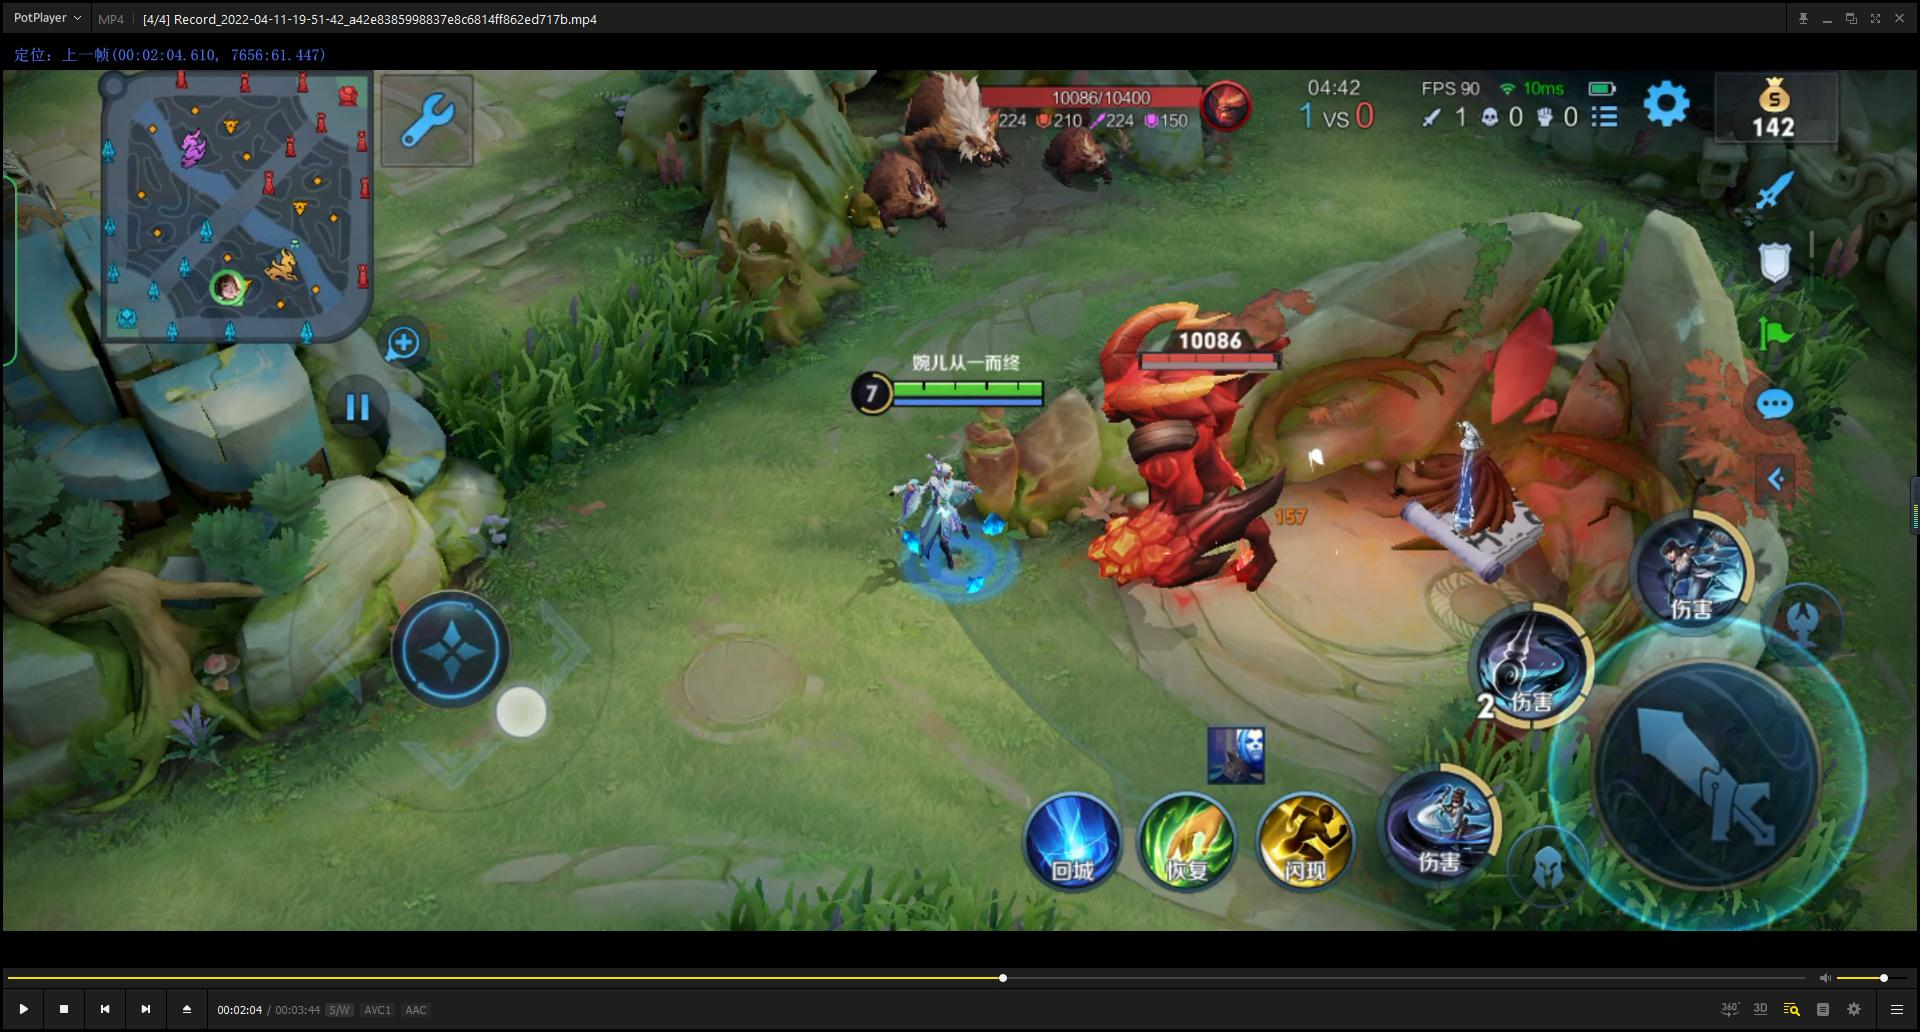Buff: (1092, 302, 1305, 608)
Hero: (860, 444, 1005, 602)
Pig: (1039, 114, 1174, 230), (883, 67, 1010, 172), (840, 127, 956, 239)
